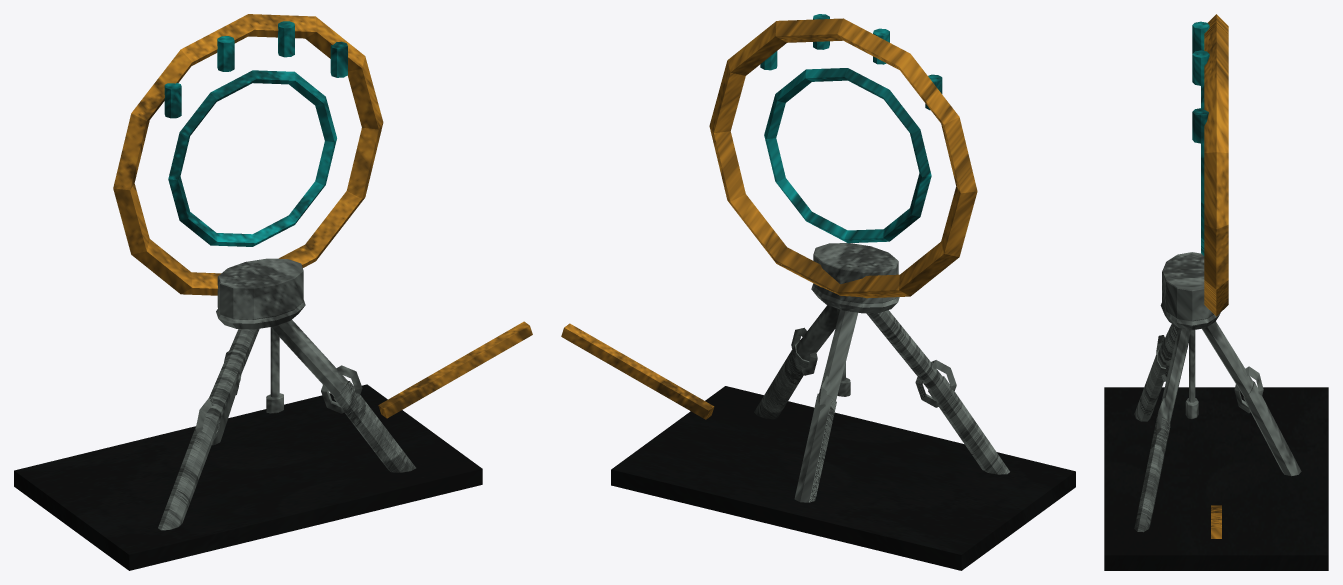
File: east-scaffold-handhold-frame.glb
3 renders of one model, left to right at view 1: azimuth 30°, elevation 25°; view 2: azimuth 150°, elevation 25°; view 3: azimuth 270°, elevation 25°, orthographic. The views are drawn at different scales.
Parts seen in each view (by area): view 1: east-scaffold-handhold-frame; view 2: east-scaffold-handhold-frame; view 3: east-scaffold-handhold-frame.
Part boxes in pixels (bbox=[...]): east-scaffold-handhold-frame: bbox=[14, 14, 532, 570]; east-scaffold-handhold-frame: bbox=[561, 14, 1075, 570]; east-scaffold-handhold-frame: bbox=[1104, 14, 1328, 570].
Size of the model in its own units: 5.97 by 5.91 by 2.6.
Materials: 1 (1 with a texture image).
